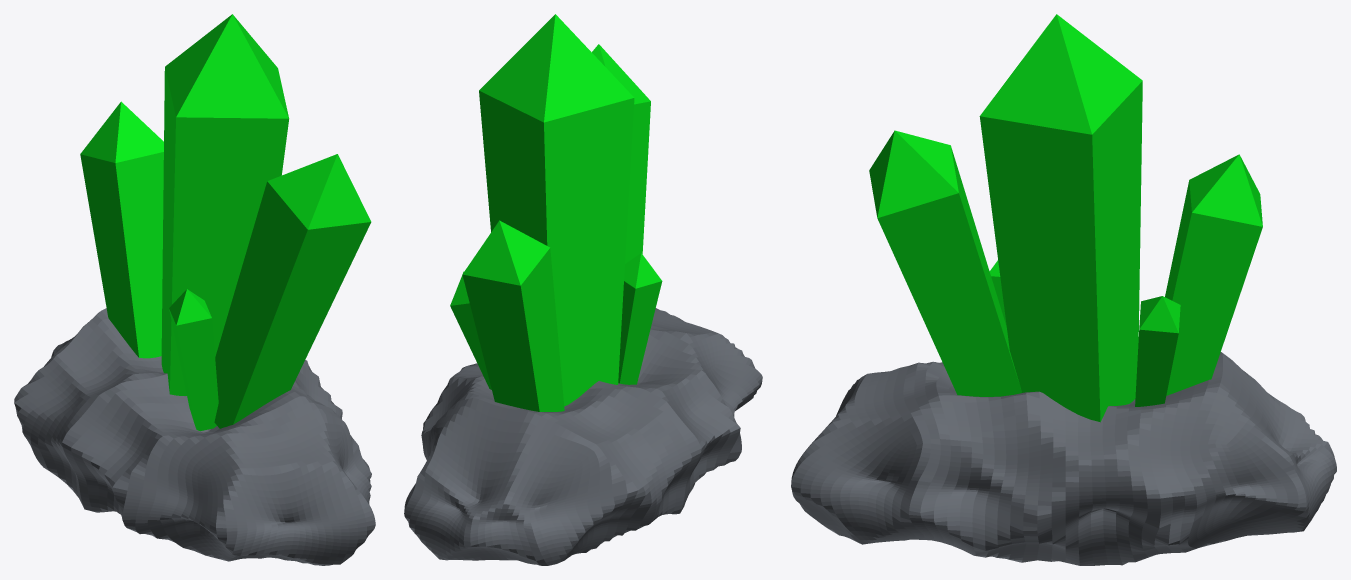
File: crystal_green.fbx
3 views of the same model, side by side, from view 1: azimuth 30°, elevation 25°; view 2: azimuth 150°, elevation 25°; view 3: azimuth 270°, elevation 25° (orthographic). The views are drawn at different scales.
Parts seen in each view (by area): view 1: Cube.007, Cube.009, Cube.008, Cube.006, Cube.010; view 2: Cube.007, Cube.009, Cube.006, Cube.010, Cube.008, Cube.011; view 3: Cube.007, Cube.009, Cube.008, Cube.006, Cube.011.
Part boxes in pixels (x1,y1,x2,y2): Cube.007: (14,308,375,565); Cube.009: (161,14,289,395); Cube.008: (214,154,371,428); Cube.006: (80,101,163,358); Cube.010: (169,289,218,431); Cube.007: (404,308,762,565); Cube.009: (479,14,634,406); Cube.006: (462,220,564,411); Cube.010: (618,253,662,384); Cube.008: (592,44,650,263); Cube.011: (450,271,491,389); Cube.007: (791,352,1336,565); Cube.009: (979,14,1142,422); Cube.008: (869,130,1021,396); Cube.006: (1165,154,1262,395); Cube.011: (1135,296,1180,406).
Bounding box in the file's own units: 352 × 644 × 588.
